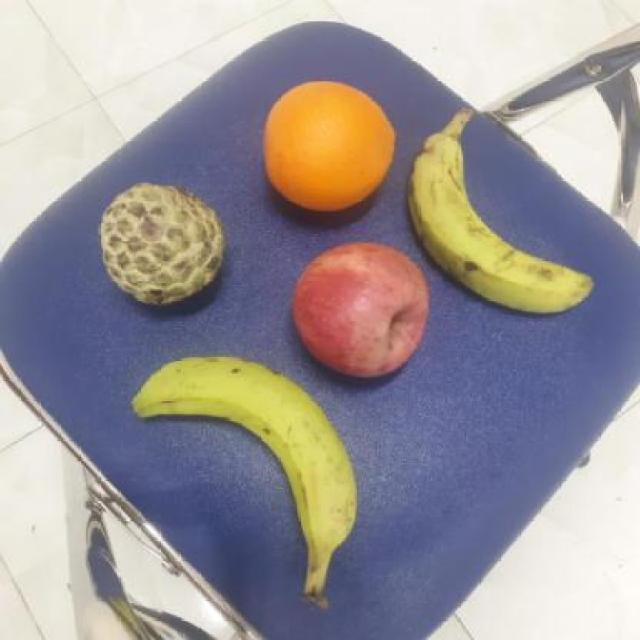apple: (285, 241, 430, 381)
banana: (123, 357, 360, 572), (407, 134, 595, 326)
oren: (258, 78, 396, 214)
sugar apple: (98, 179, 232, 306)
